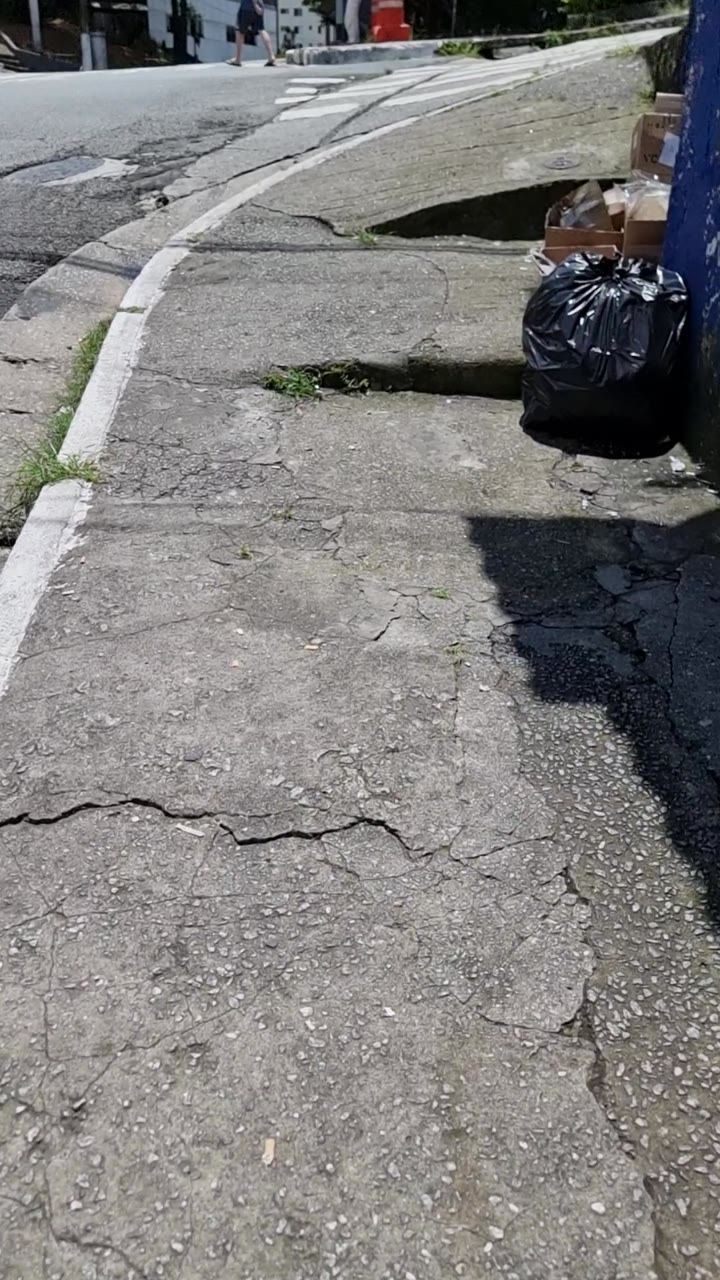obstaculo: (521, 252, 688, 449), (544, 180, 668, 263)
